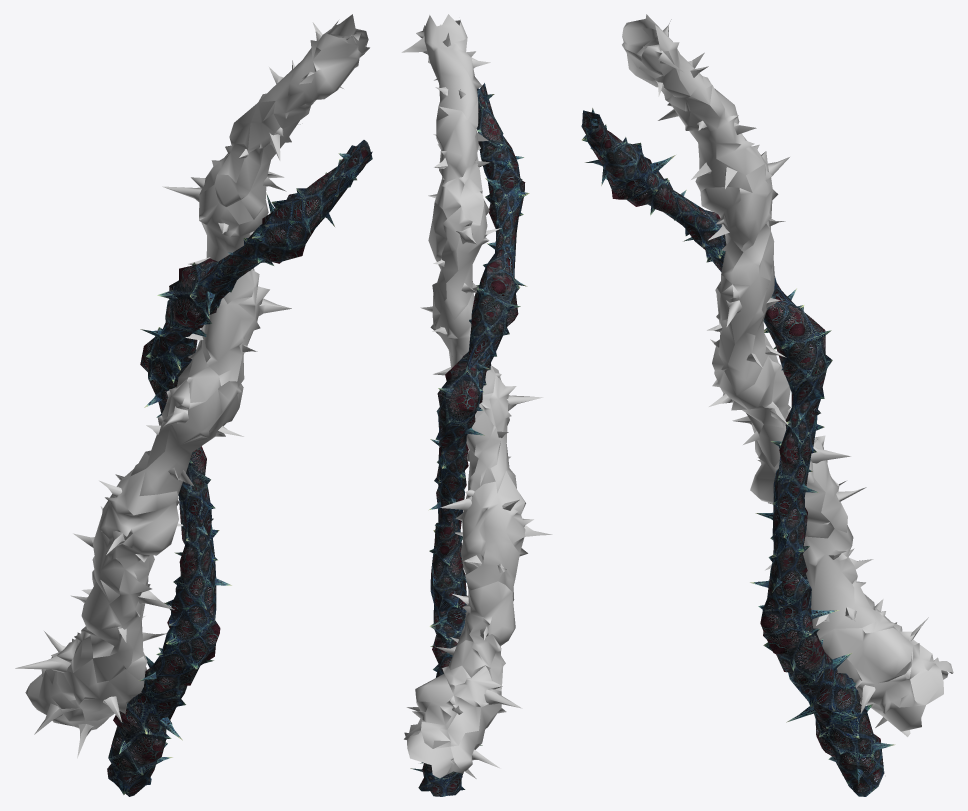
File: 02_03_Makaijyu_04.fbx
The picture shows the model from 3 angles, left to right: view 1: azimuth 30°, elevation 25°; view 2: azimuth 150°, elevation 25°; view 3: azimuth 270°, elevation 25°; orthographic projection. The views are drawn at different scales.
Parts seen in each view (by area): view 1: LODGroup_3_MainMesh_1_SubMesh_1, LODGroup_3_MainMesh_1_SubMesh_2; view 2: LODGroup_3_MainMesh_1_SubMesh_1, LODGroup_3_MainMesh_1_SubMesh_2; view 3: LODGroup_3_MainMesh_1_SubMesh_1, LODGroup_3_MainMesh_1_SubMesh_2.
Part boxes in pixels (x1=…): LODGroup_3_MainMesh_1_SubMesh_1: x1=15, y1=14, x2=369, y2=758; LODGroup_3_MainMesh_1_SubMesh_2: x1=107, y1=140, x2=372, y2=796; LODGroup_3_MainMesh_1_SubMesh_1: x1=401, y1=14, x2=552, y2=778; LODGroup_3_MainMesh_1_SubMesh_2: x1=410, y1=83, x2=529, y2=796; LODGroup_3_MainMesh_1_SubMesh_1: x1=622, y1=14, x2=953, y2=736; LODGroup_3_MainMesh_1_SubMesh_2: x1=581, y1=108, x2=895, y2=796.
Size of the model in its own units: 460 by 1491 by 609.
